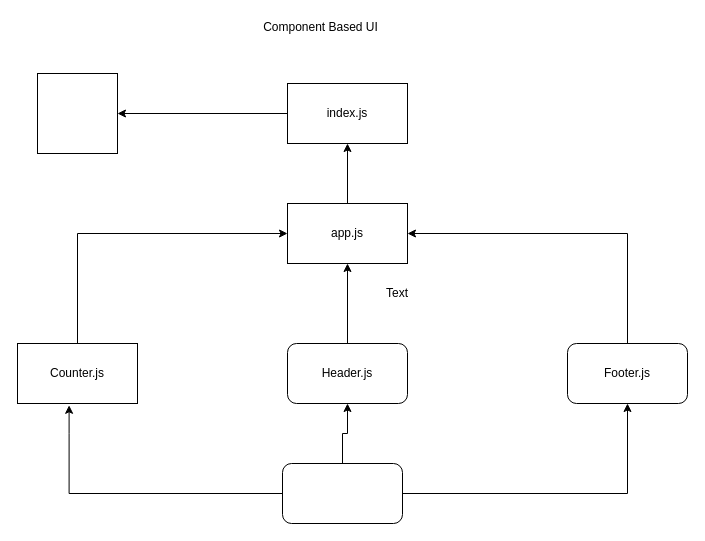
Some shapes in this 705 by 541 pixel diagram are drawn without their labels. The centre of each missing label's shape, as x and y in pixels:
"index.html" belongs at point 77,113.
"Style.scss" belongs at point 342,493.
